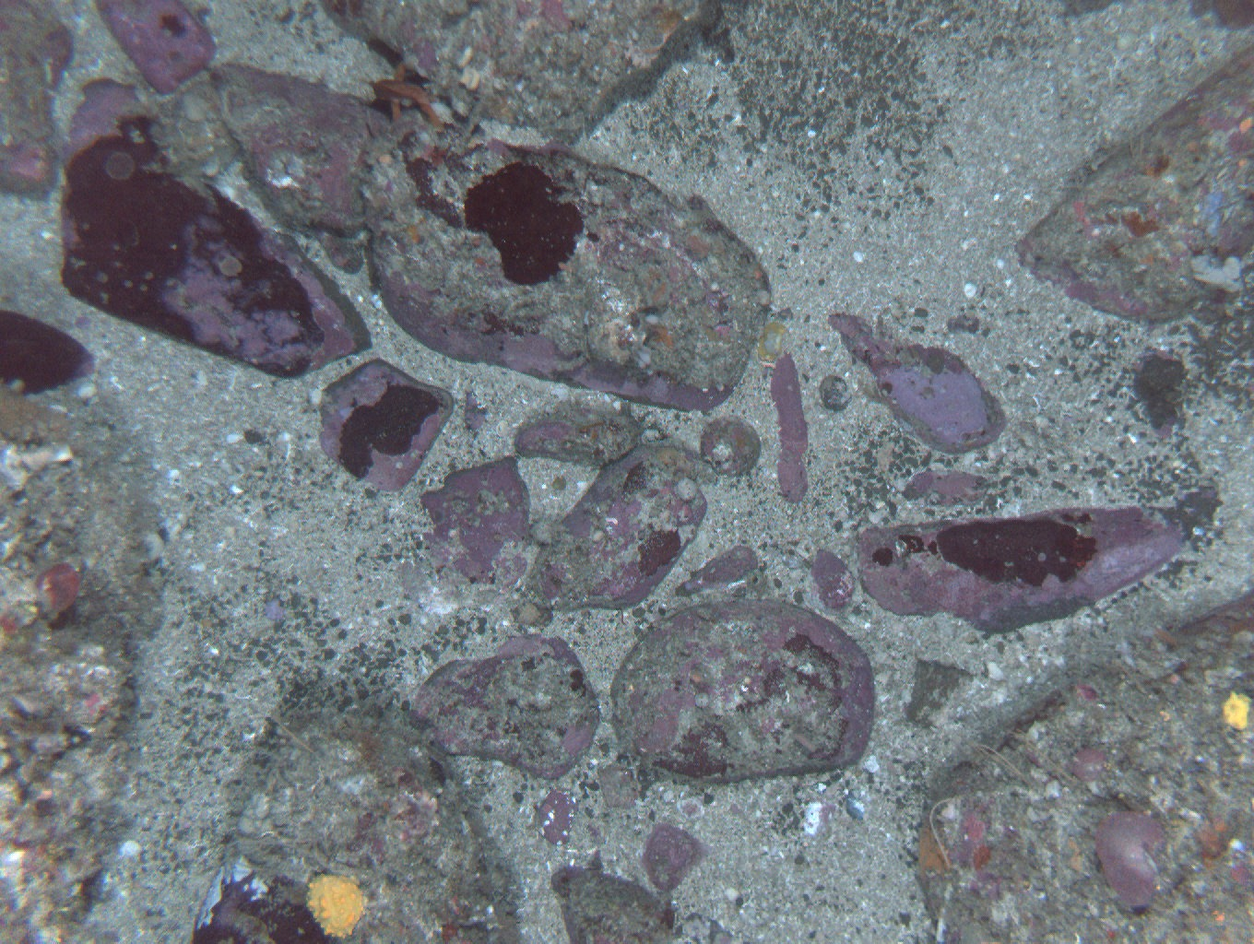Brachionichthyidae: (363, 59, 451, 133)
